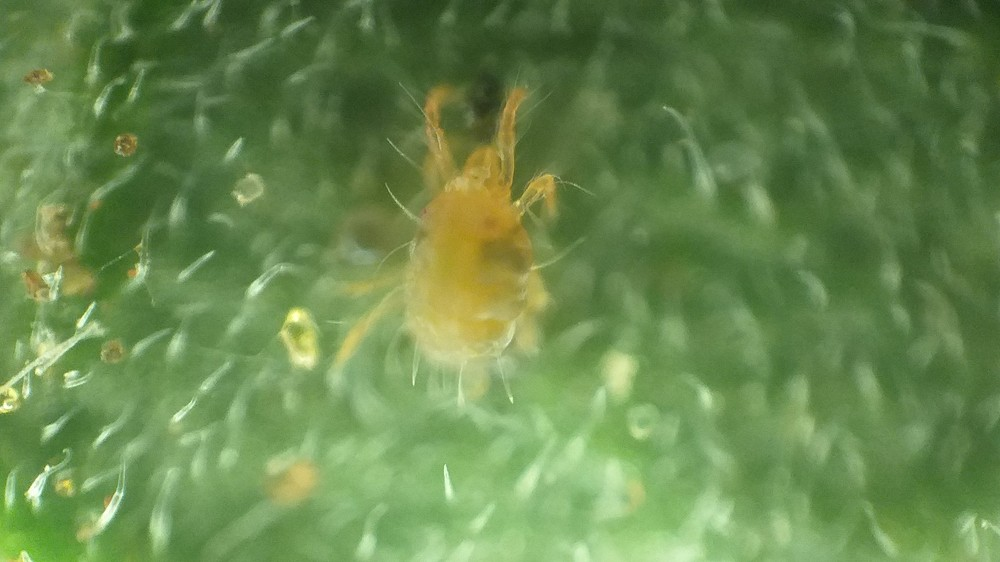Aracnido Rojo: (348, 74, 614, 429)
